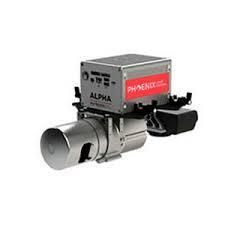tutu: (37, 45, 201, 184)
